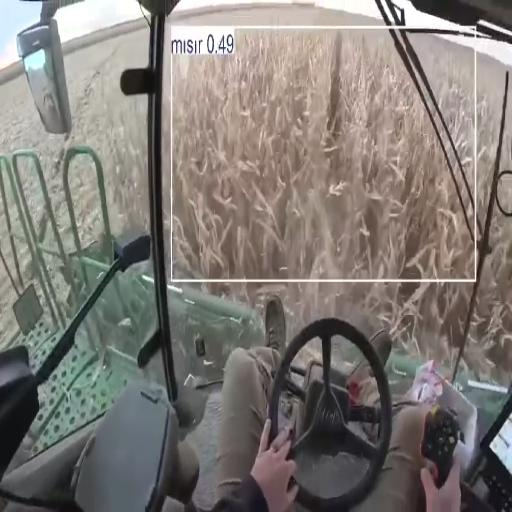misir: (161, 29, 511, 382), (66, 19, 149, 231)
